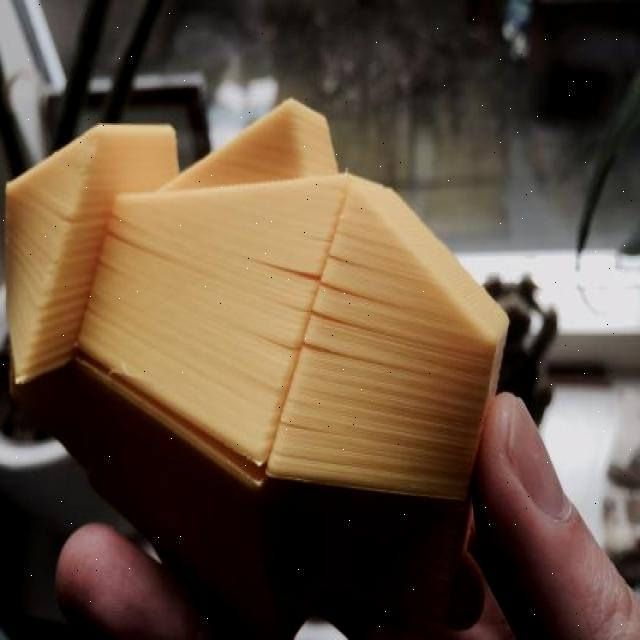cracking: (233, 267, 394, 369), (72, 217, 176, 267)
